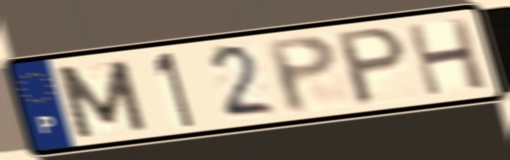1: (151, 49, 198, 130)
2: (208, 41, 280, 125)
H: (403, 15, 492, 99)
M: (51, 57, 152, 142)
P: (262, 32, 341, 117), (334, 24, 410, 110)
